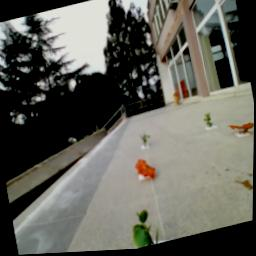herb: (129, 208, 163, 251), (203, 115, 216, 132), (140, 135, 154, 150)
wild: (228, 122, 255, 142)
